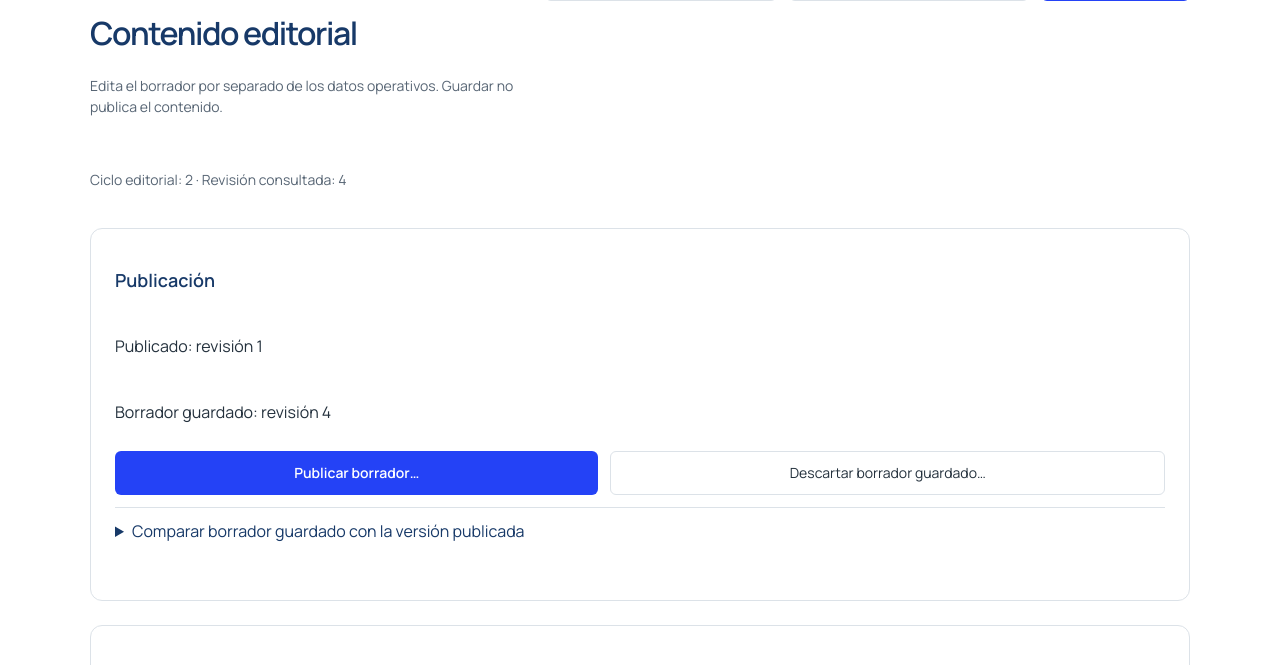
Scenario: editorial publication public UI › requires explicit reconciliation after a publish conflict
Click the button "Publicar borrador…": [357, 473] box [115,451,598,495]
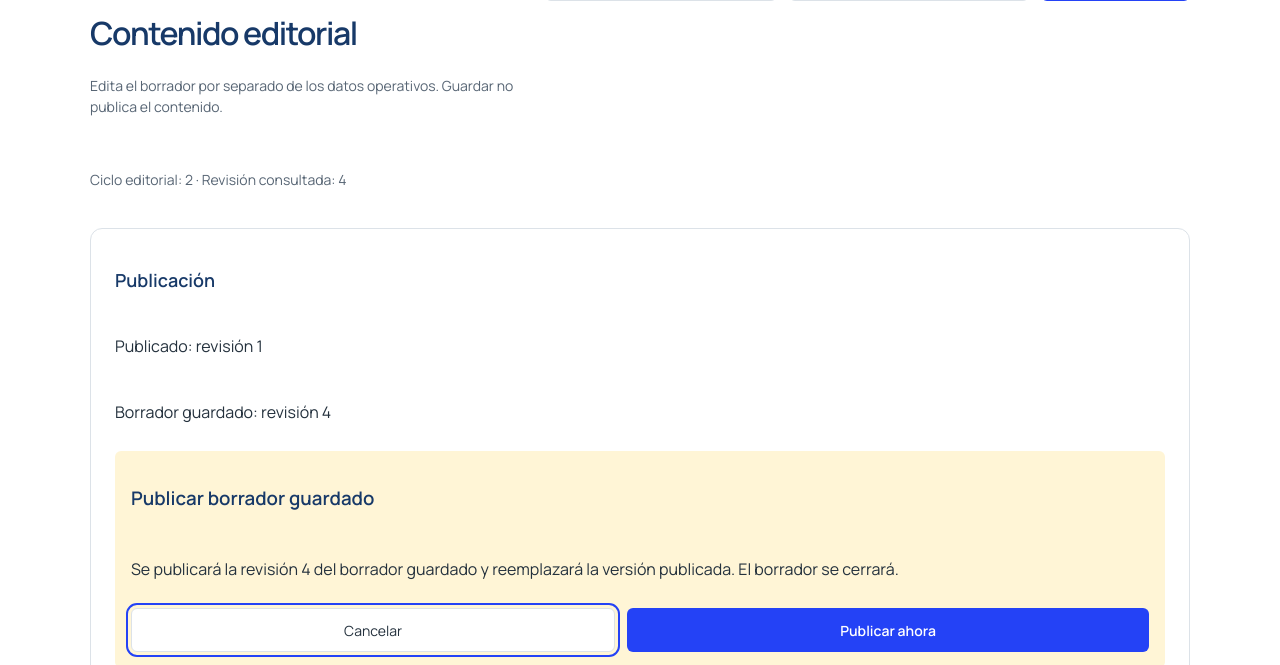
Click the button "Publicar ahora": [888, 630] box [627,608,1149,652]
(page scrolled)
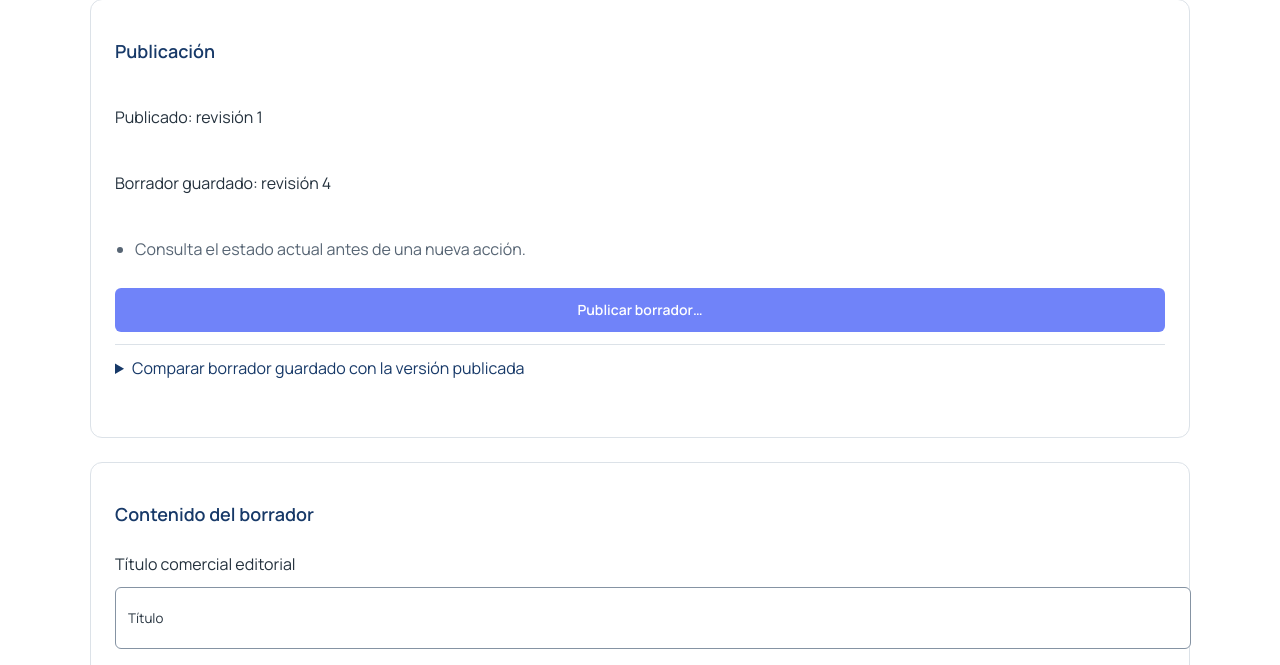
Expected: the element that starts with "Publicación" shows "Borrador guardado: revisión 4", [115,172,331,194]
Expected: the button "Publicar borrador…" is disabled, [115,288,1165,332]
